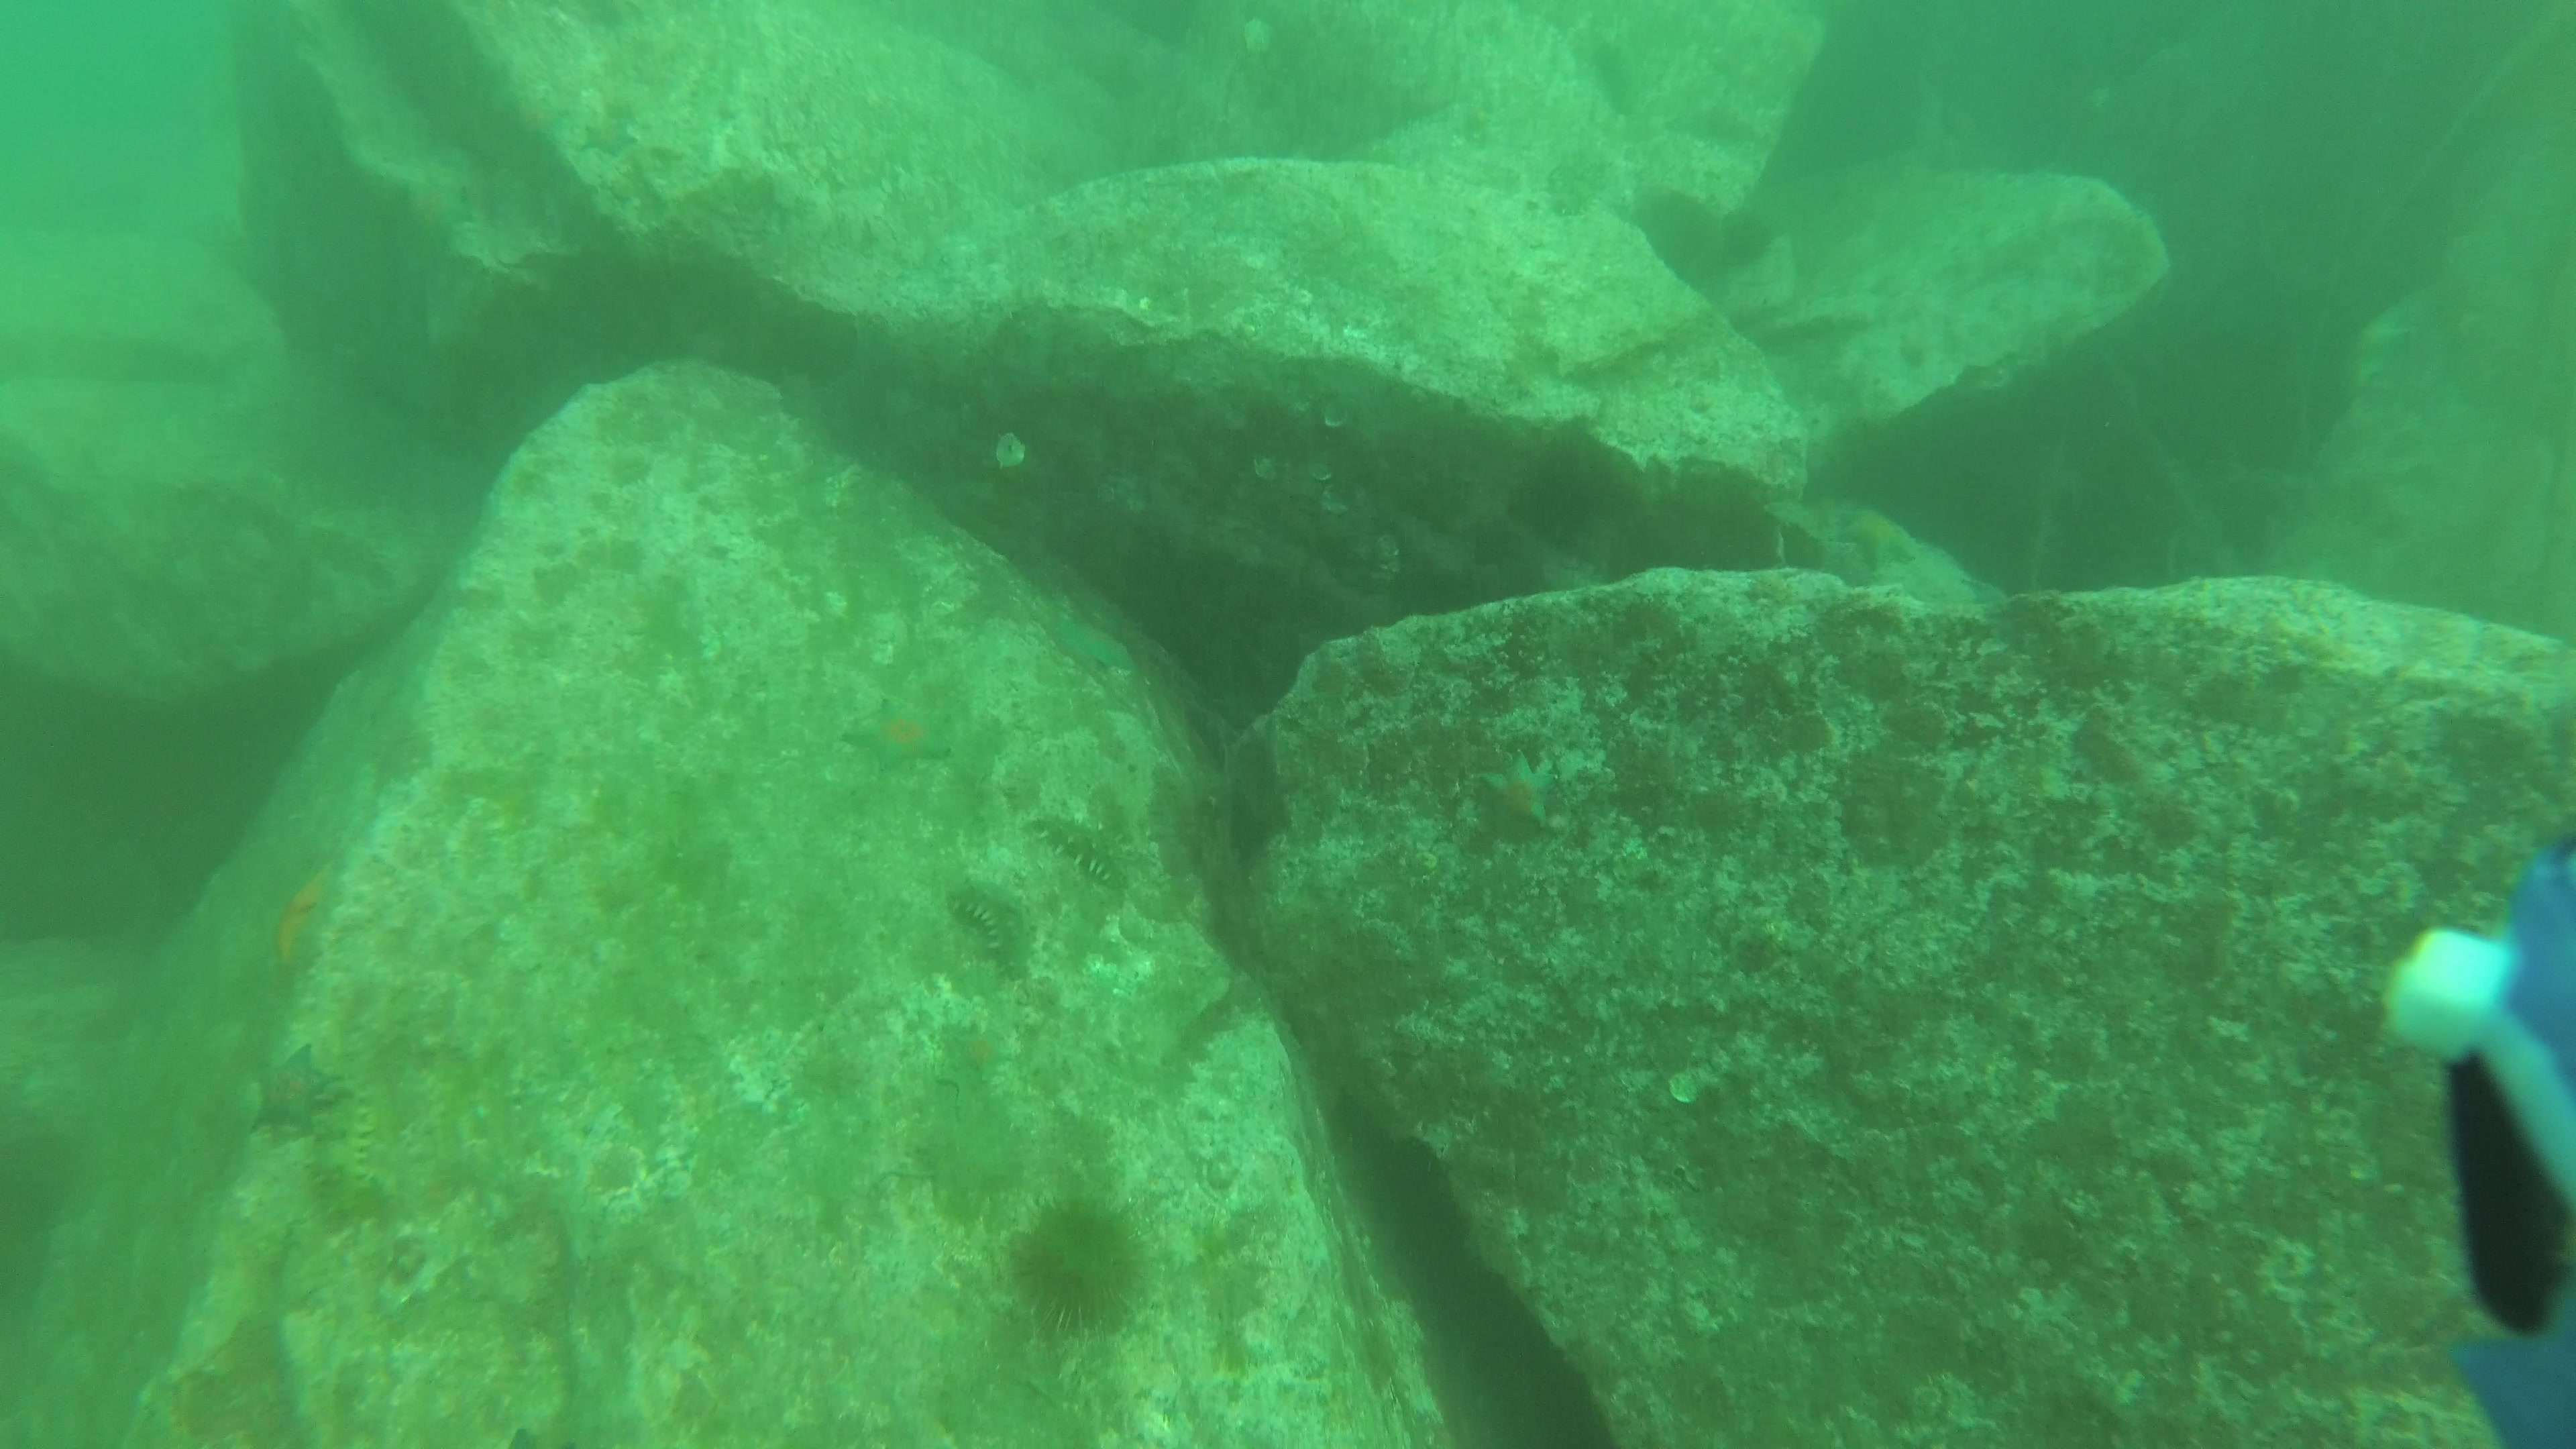echinus: (994, 1194, 1161, 1341), (1626, 177, 1714, 271), (1709, 189, 1780, 278)
holothurian: (943, 869, 1035, 977), (313, 1100, 387, 1233), (1040, 803, 1143, 892), (1587, 27, 1652, 124)
starfish: (840, 688, 959, 784), (248, 1039, 347, 1143), (1465, 741, 1569, 830), (262, 860, 338, 977), (1836, 499, 1928, 582), (1040, 609, 1141, 681), (2350, 294, 2420, 393)
